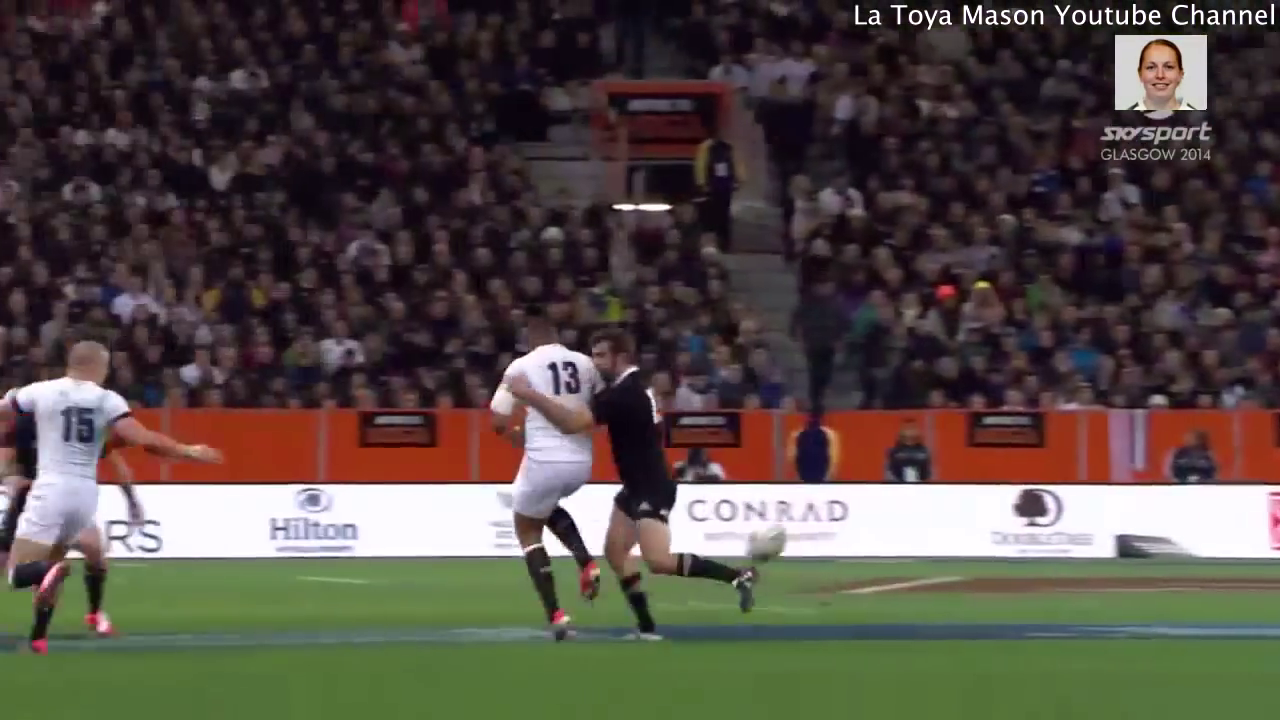player: (513, 323, 767, 657), (1, 340, 228, 663), (480, 320, 613, 653)
